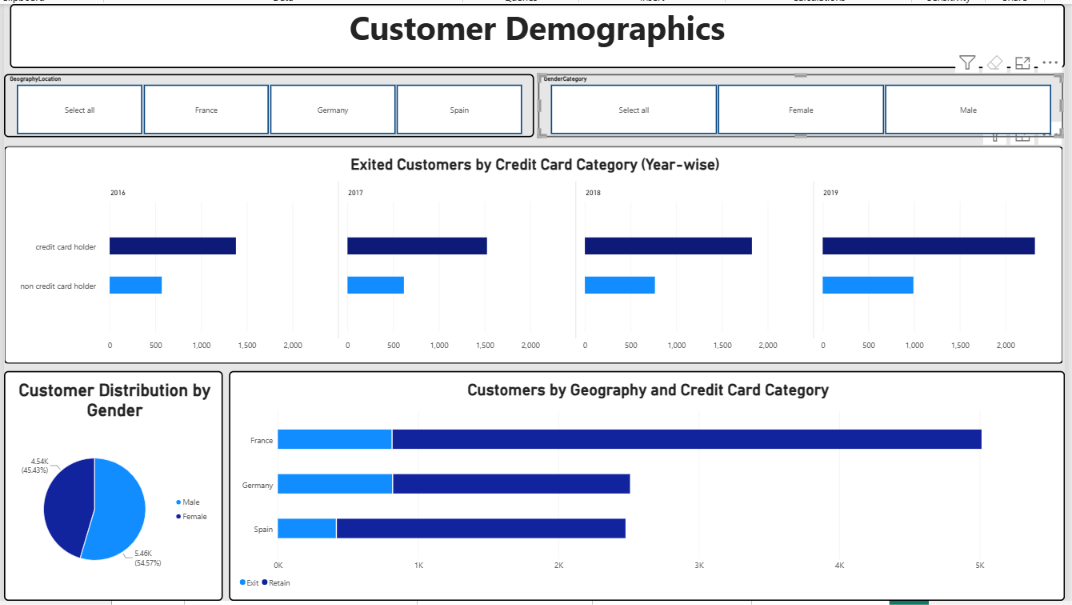

Layout of this report page (visuals, bound fields, positions):
{"tool":"powerbi","page":{"name":"Customer Demographics","canvas":[1920,1080],"ordinal":2},"visuals":[{"type":"textbox","box":[10.9,0,1909.2,115.8],"z":0},{"type":"clusteredBarChart","title":"Exited Customers by Credit Card Category (Year-wise)","fields":{"Category":["Table1 (3).Category"],"Rows":["Bank_Chduurn.Bank DOJ.Variation.Date Hierarchy.Year"],"Y":["CountNonNull(Bank_Chduurn.Exited)"]},"box":[0,257,1916.4,394.5],"z":1},{"type":"barChart","title":"Customers by Geography and Credit Card Category","fields":{"Category":["Sheet1.GeographyLocation"],"Series":["Table1 (2).ExitCategory"],"Y":["Bank_Chduurn.Total Customers"]},"box":[407.2,664.1,1512.9,416.2],"z":2},{"type":"pieChart","title":"\tCustomer Distribution by Gender","fields":{"Category":["Table1.GenderCategory"],"Y":["CountNonNull(Bank_Chduurn.GenderID)"]},"box":[0,664.1,396.3,416.2],"z":3},{"type":"slicer","fields":{"Values":["Sheet1.GeographyLocation"]},"box":[0,126.7,959.1,114],"z":4},{"type":"slicer","fields":{"Values":["Table1.GenderCategory"]},"box":[966.4,126.7,950.1,114],"z":7}]}

Visuals, with their boxes in screenshot pixels (x1, y1, x2, y2):
textbox: [6, 3, 1057, 67]
"Exited Customers by Credit Card Category (Year-wise)" clusteredBarChart: [0, 144, 1055, 362]
"Customers by Geography and Credit Card Category" barChart: [224, 368, 1057, 598]
"	Customer Distribution by Gender" pieChart: [0, 368, 218, 598]
slicer - Sheet1.GeographyLocation: [0, 73, 528, 135]
slicer - Table1.GenderCategory: [532, 73, 1055, 135]
